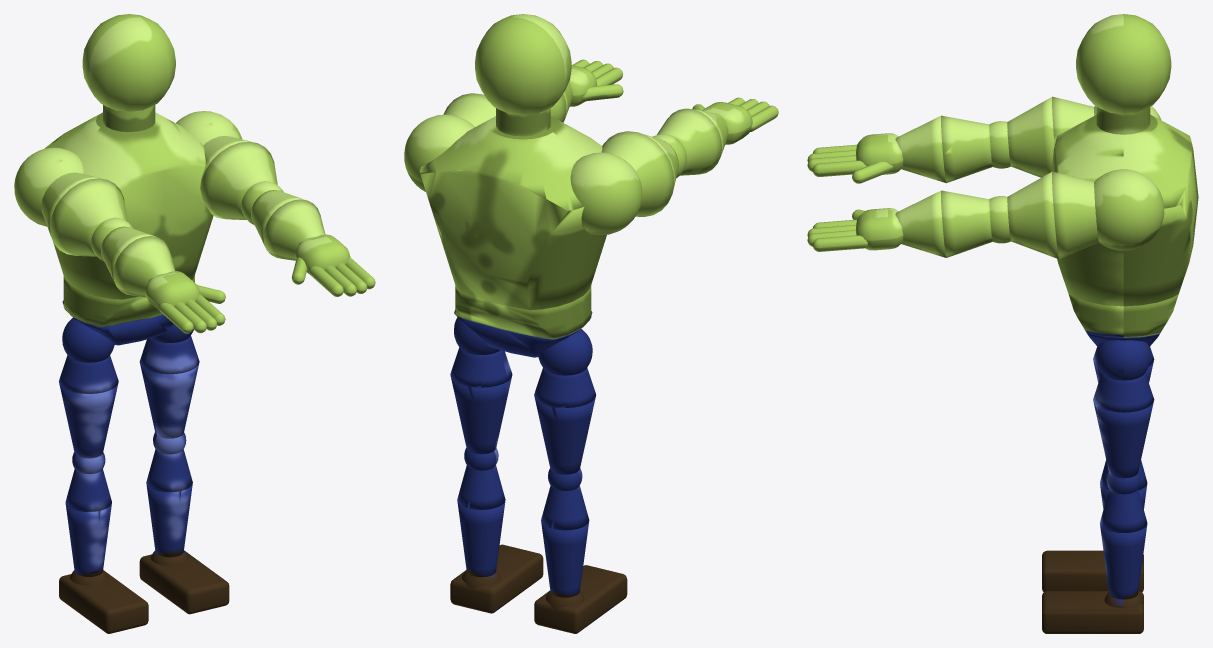
Rendered from Jacked Zombie (Final).obj.
The picture shows the model from 3 angles, left to right: view 1: azimuth 30°, elevation 25°; view 2: azimuth 150°, elevation 25°; view 3: azimuth 270°, elevation 25°; orthographic projection. The views are drawn at different scales.
Parts seen in each view (by area): view 1: Shoulders, Right_Hip, Left_Hip; view 2: Shoulders, Right_Hip, Left_Hip; view 3: Shoulders, Left_Hip, Right_Hip.
Part boxes in pixels (x1,y1,x2,y2): Shoulders: [14, 14, 375, 345]; Right_Hip: [59, 317, 148, 633]; Left_Hip: [139, 324, 229, 614]; Shoulders: [404, 14, 778, 357]; Right_Hip: [534, 329, 627, 633]; Left_Hip: [450, 317, 543, 613]; Shoulders: [807, 14, 1198, 346]; Left_Hip: [1042, 340, 1154, 633]; Right_Hip: [1042, 346, 1154, 591].
Size of the model in its own units: 39 by 95 by 57.42.
